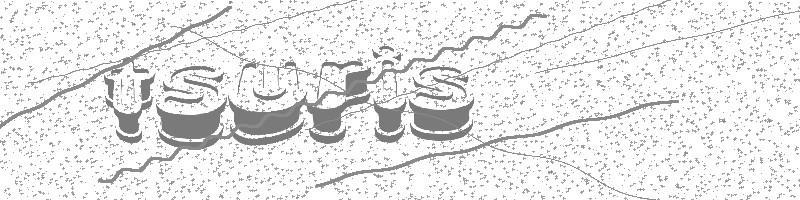i: (373, 46, 406, 144)
r: (310, 61, 371, 144)
s: (157, 66, 227, 150), (410, 67, 474, 140)
t: (106, 58, 154, 143)
u: (229, 63, 306, 146)
